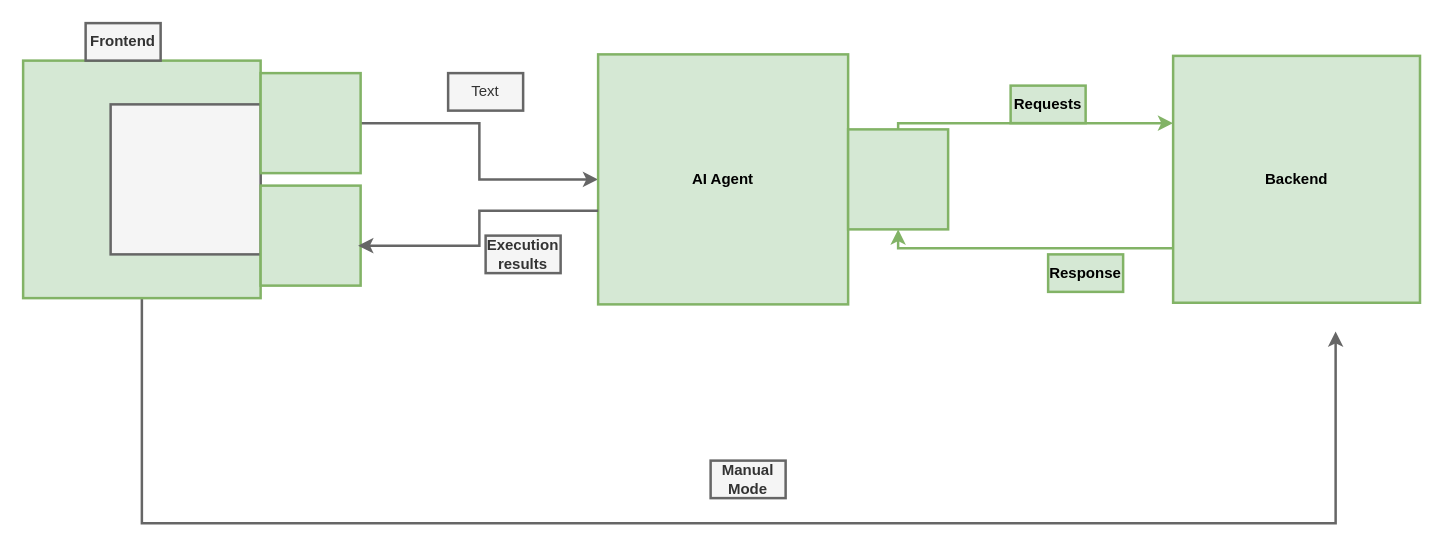
Image size: 1443x555. Some labels were removed from this diagram. The shapes that lost their labels are listed below. From the top down, each one's box as (x1, y1, x2, y2) in pixels, then its label:
(259, 71, 361, 174): STT
(109, 102, 261, 255): AI Mode
(846, 128, 949, 230): Util Functions
(259, 184, 361, 286): TTS
